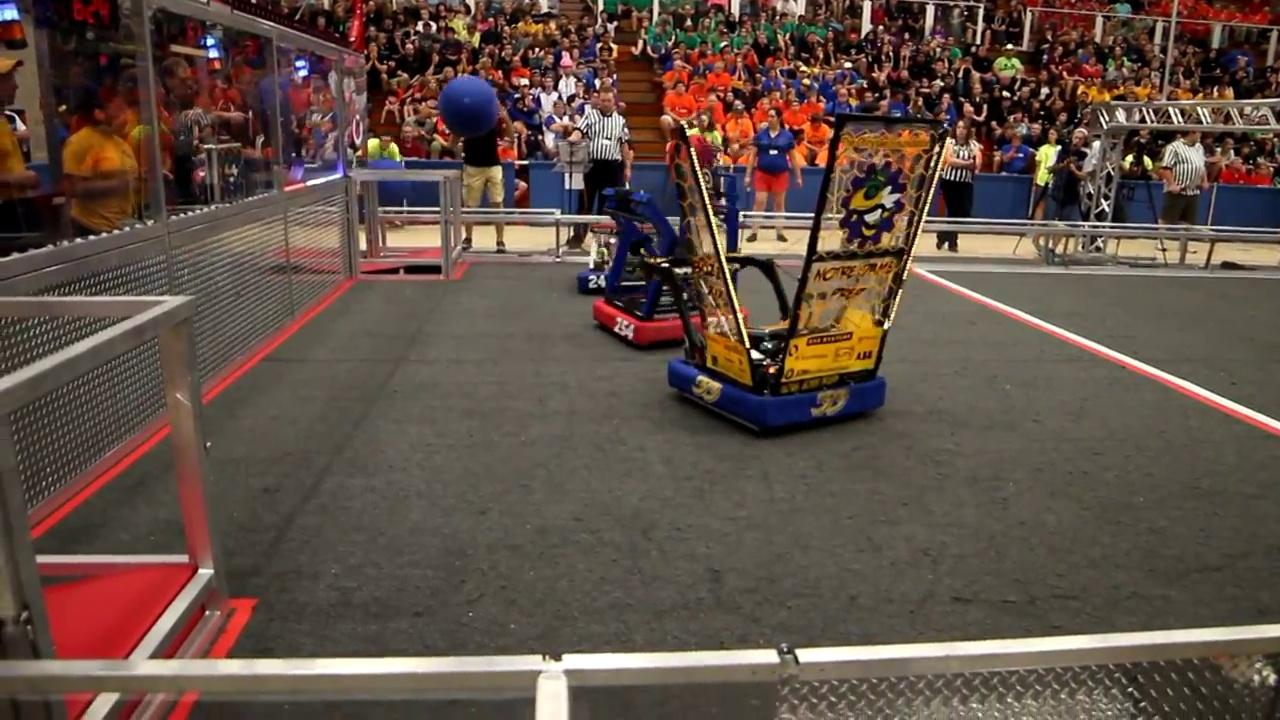robot: (648, 107, 952, 438), (592, 178, 745, 349)
